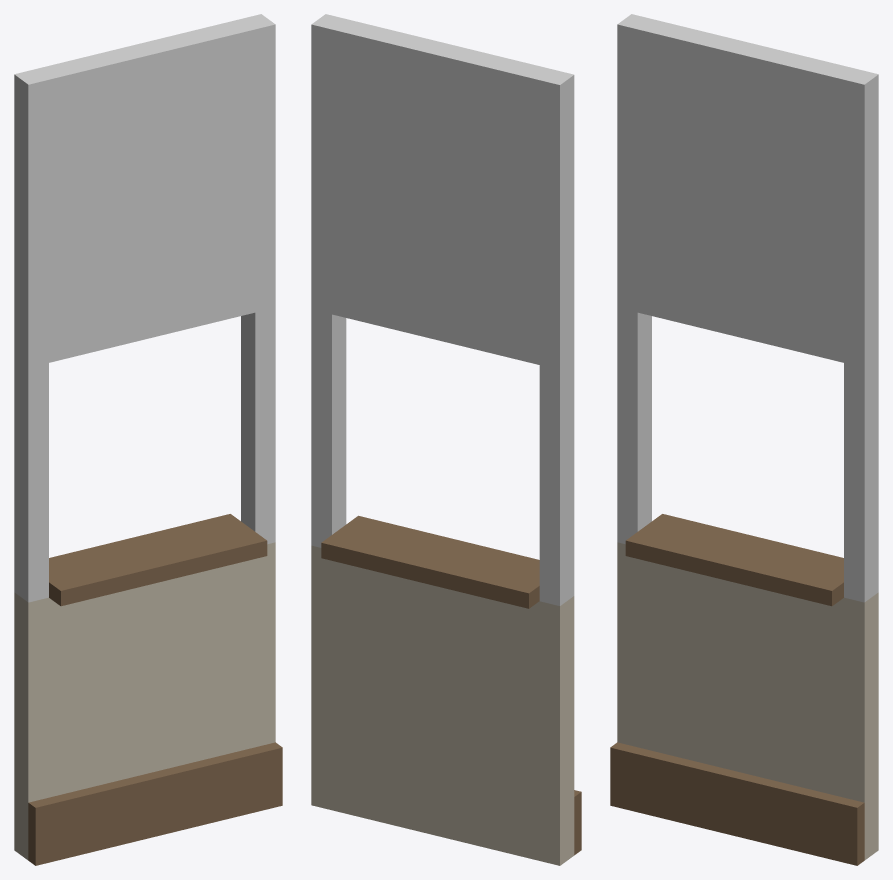
Rendered from Mesh_WallBaseboard2Colors_B2.fbx.
3 views of the same model, side by side, from view 1: azimuth 30°, elevation 25°; view 2: azimuth 150°, elevation 25°; view 3: azimuth 330°, elevation 25° (orthographic).
Parts seen in each view (by area): view 1: Mesh_WallBaseboard2Colors_B2; view 2: Mesh_WallBaseboard2Colors_B2; view 3: Mesh_WallBaseboard2Colors_B2.
Part boxes in pixels (bbox=[...]): Mesh_WallBaseboard2Colors_B2: bbox=[14, 14, 282, 865]; Mesh_WallBaseboard2Colors_B2: bbox=[311, 14, 581, 865]; Mesh_WallBaseboard2Colors_B2: bbox=[610, 14, 878, 865].
Size of the model in its own units: 1 by 3 by 0.2574.
